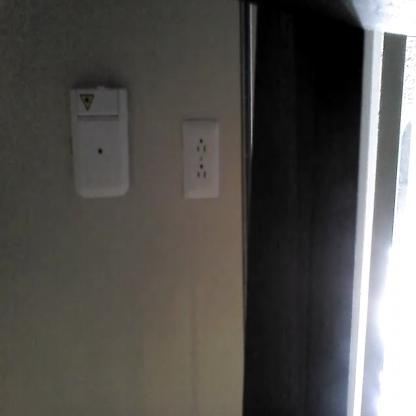OUTLET: (182, 119, 220, 200)
